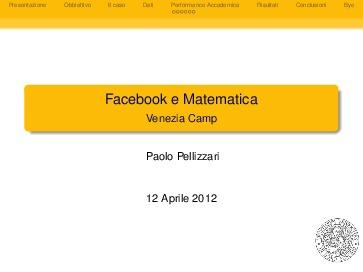title: (89, 65, 270, 141)
